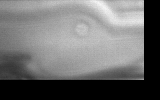cell: (60, 13, 103, 40), (66, 4, 98, 25), (71, 10, 90, 39), (72, 21, 91, 39)
